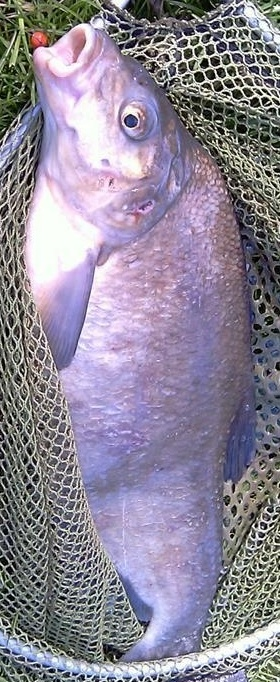Abramis brama: (20, 20, 260, 662)
